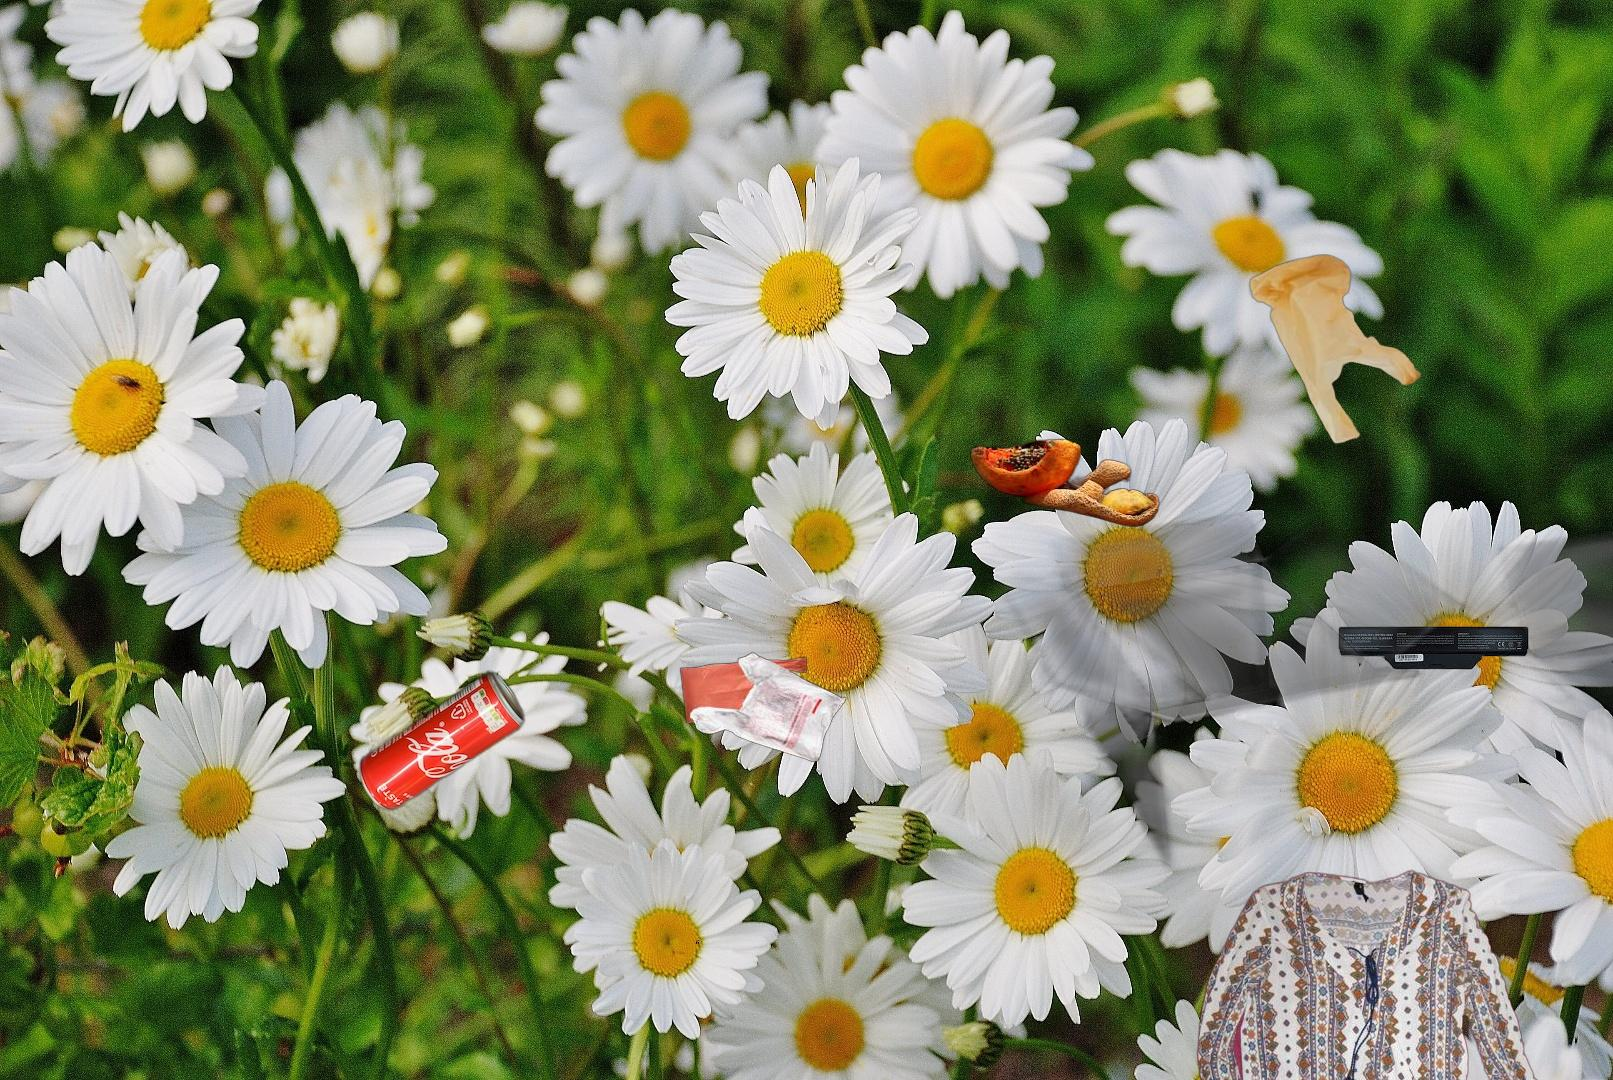battery: (1336, 624, 1531, 673)
biological: (968, 436, 1162, 530)
clothes: (1193, 865, 1552, 1080)
metal-cans: (354, 280, 749, 816)
plastic-bag: (1247, 251, 1425, 447), (679, 651, 849, 765)
plastic-bottles: (1611, 550, 1613, 808)
trashbox-cardboard: (772, 427, 1613, 1006)
